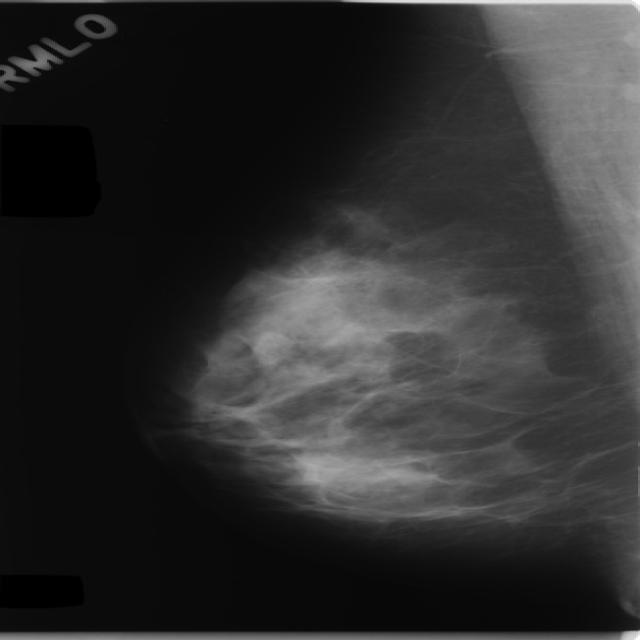tumour: (250, 328, 290, 362)
